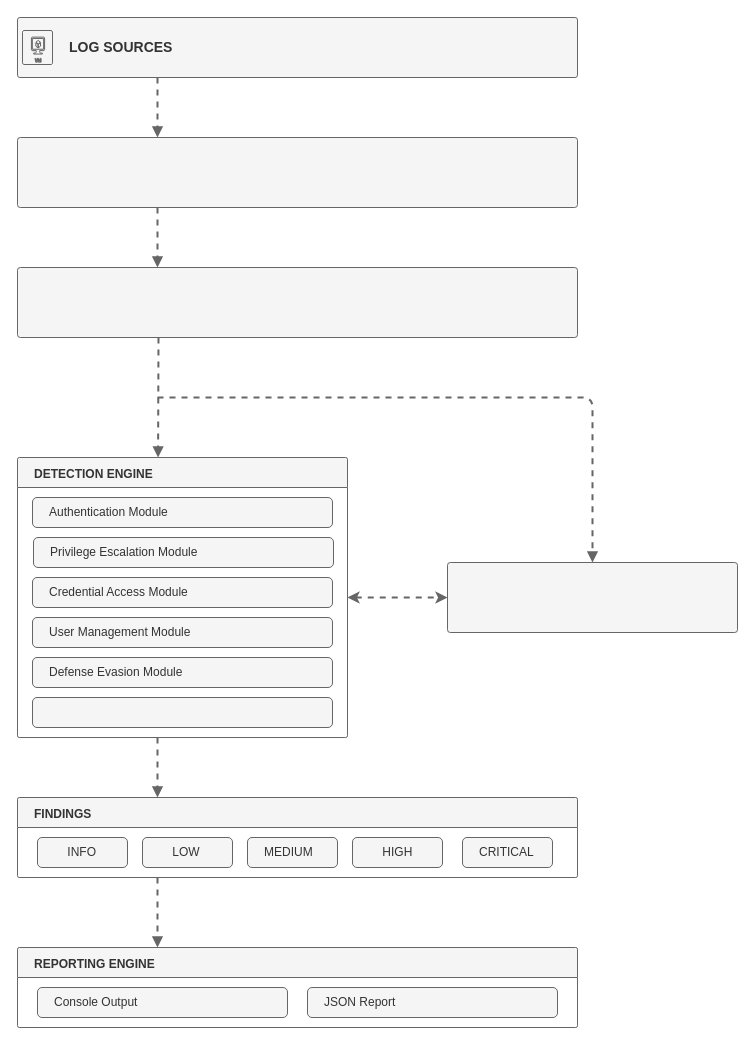
Image size: 755x1045. Some labels were removed from this diagram. The shapes that lost their labels are listed below. From the top down, each one's centre as x and y in pixels, then its label:
At point 297,172: "LOG PARSER".
At point 297,302: "NORMALIZED EVENTS".
At point 592,597: "DETECTION CONTEXT".
At point 182,712: "Suspicious Command Module".
